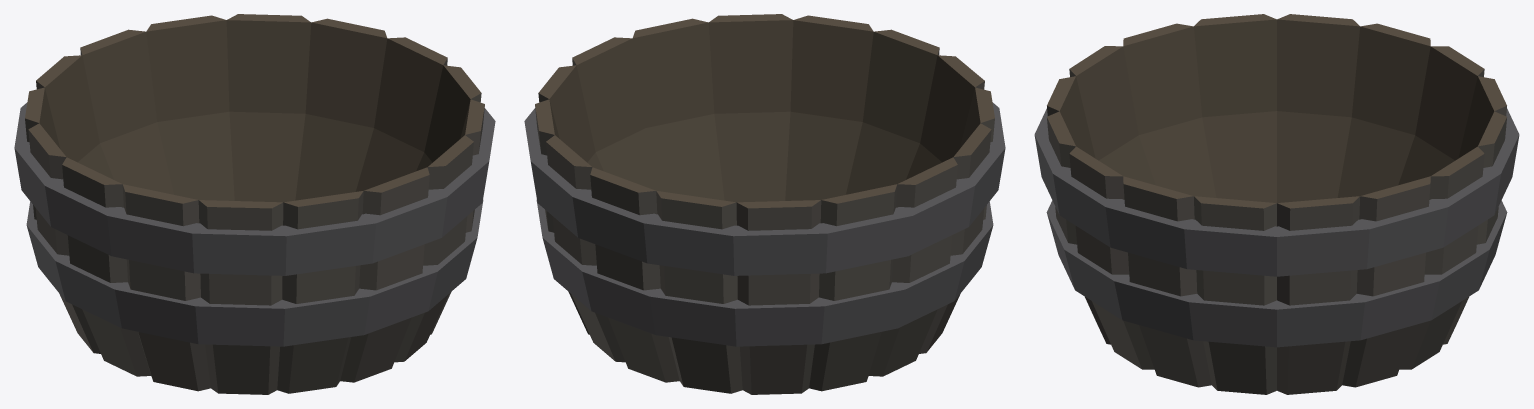
The model's file is SM_Prop_Barrel_Half_01.glb.
The picture shows the model from 3 angles, left to right: view 1: azimuth 30°, elevation 25°; view 2: azimuth 150°, elevation 25°; view 3: azimuth 270°, elevation 25°; orthographic projection.
Parts seen in each view (by area): view 1: SM_Prop_Barrel_Half_01; view 2: SM_Prop_Barrel_Half_01; view 3: SM_Prop_Barrel_Half_01.
Boxes of the visible parts, x1,y1,x2,y2 form: SM_Prop_Barrel_Half_01: [14, 14, 495, 394]; SM_Prop_Barrel_Half_01: [524, 14, 1005, 394]; SM_Prop_Barrel_Half_01: [1034, 14, 1519, 394].
Bounding box in the file's own units: 0.00858 × 0.00405 × 0.00858.
